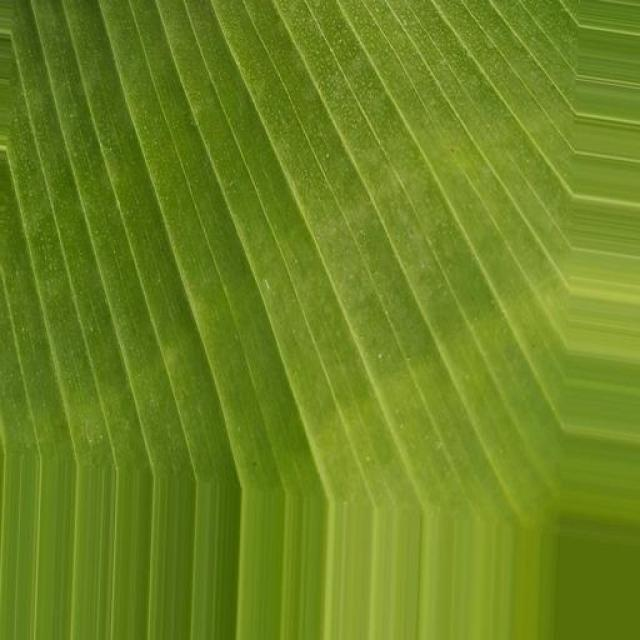Black_leaf_spot: (0, 0, 581, 526)
